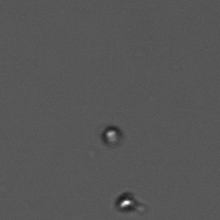Living Cell: (101, 125, 125, 147), (116, 192, 139, 211)
